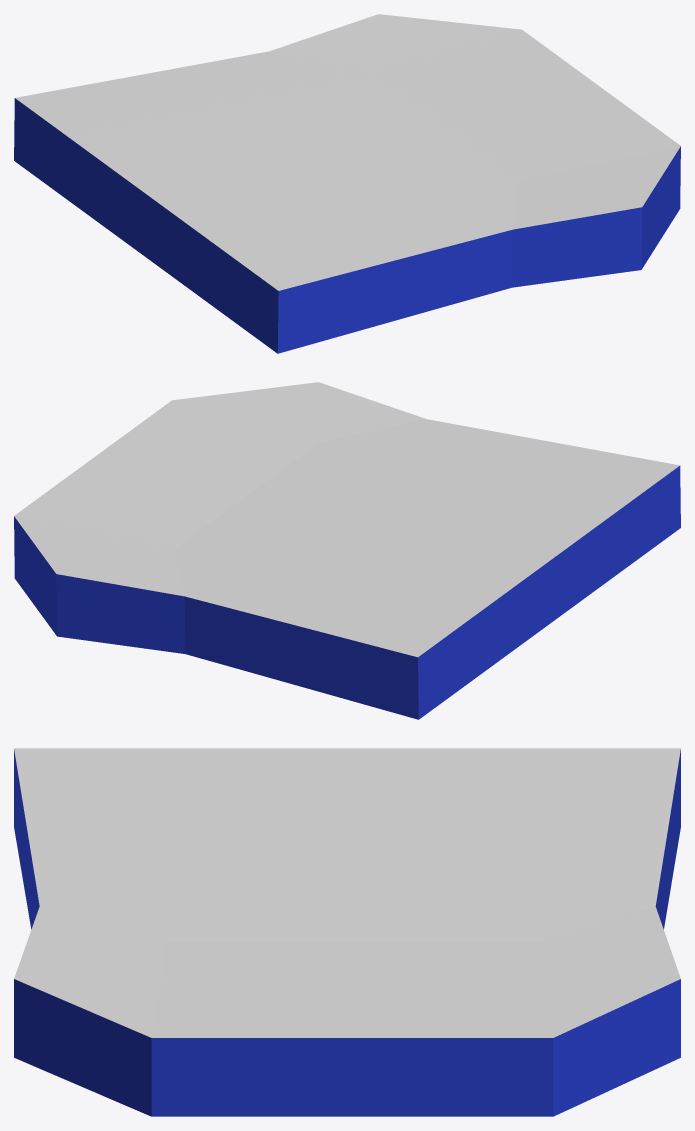
Rendered from BreadSlice.fbx.
3 views of the same model, one above another, from view 1: azimuth 30°, elevation 25°; view 2: azimuth 150°, elevation 25°; view 3: azimuth 270°, elevation 25° (orthographic). The views are drawn at different scales.
Visible parts, largest first — view 1: Cube.001; view 2: Cube.001; view 3: Cube.001.
Part boxes in pixels (bbox=[...]): Cube.001: bbox=[14, 14, 680, 353]; Cube.001: bbox=[14, 382, 680, 719]; Cube.001: bbox=[14, 748, 680, 1116].
Bounding box in the file's own units: 14.03 × 2.02 × 14.01.
